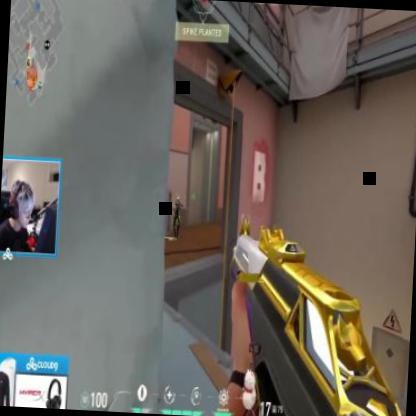enemy: (170, 194, 182, 238)
enemy_head: (176, 193, 180, 202)
